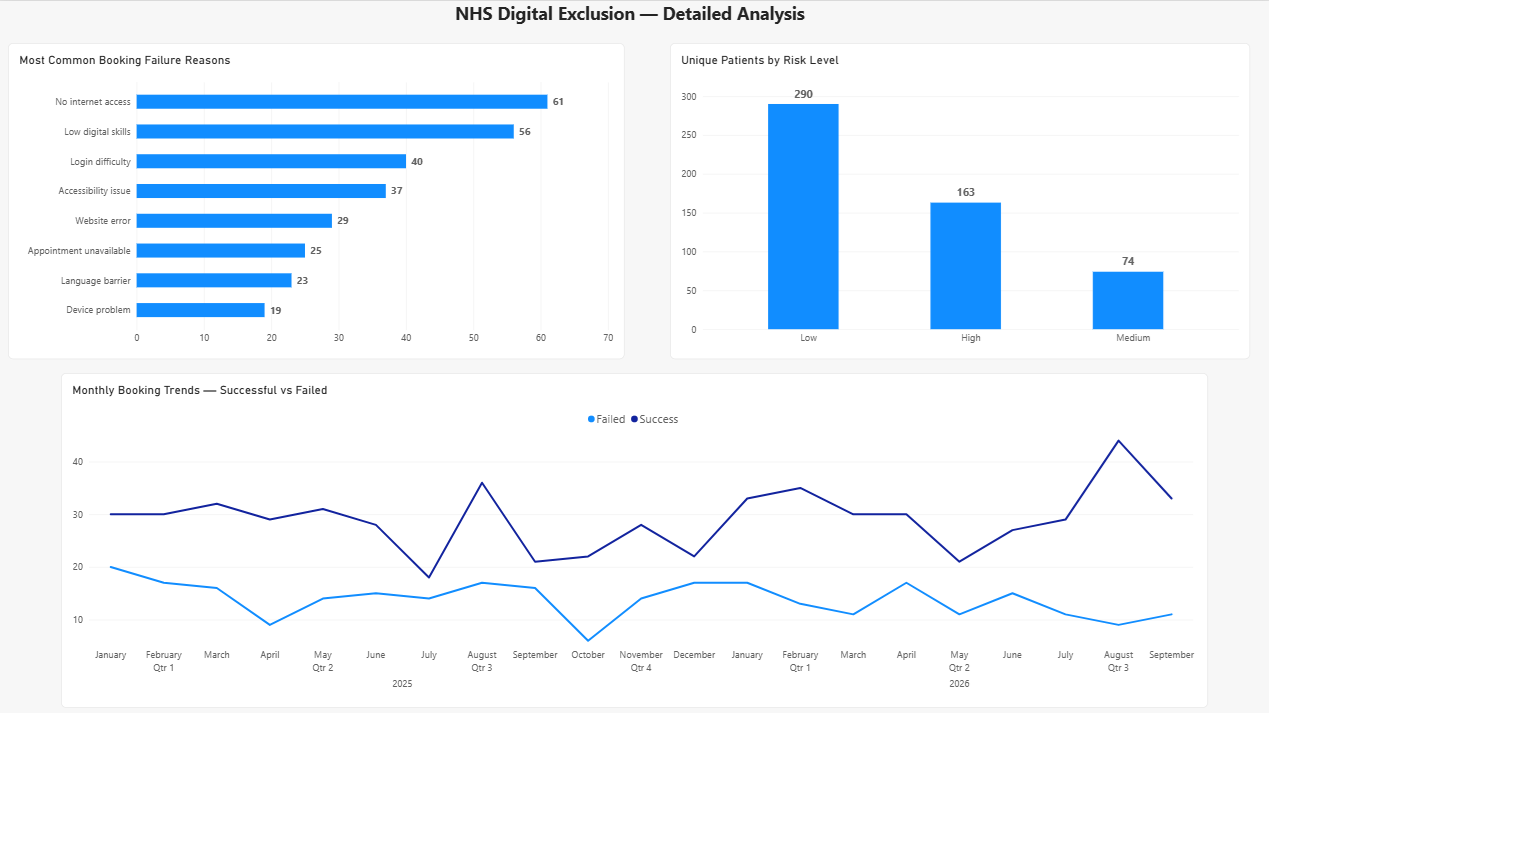

The page's visual inventory and layout, read from the dashboard file:
{"tool":"powerbi","page":{"name":"Detailed Analysis","canvas":[1920,1080],"ordinal":1},"visuals":[{"type":"barChart","title":"Most Common Booking Failure Reasons","fields":{"Category":["nhs_digital_exclusion_analytics booking_attempts.failure_reason"],"Y":["CountNonNull(nhs_digital_exclusion_analytics booking_attempts.booking_id)"]},"box":[15,63.3,930,476.7],"z":0},{"type":"clusteredColumnChart","title":"Unique Patients by Risk Level","fields":{"Category":["nhs_digital_exclusion_analytics booking_attempts.risk_level"],"Y":["Count(nhs_digital_exclusion_analytics booking_attempts.patient_id)"]},"box":[1013.3,63.3,875,476.7],"z":1},{"type":"lineChart","title":"Monthly Booking Trends — Successful vs Failed","fields":{"Category":["nhs_digital_exclusion_analytics booking_attempts.attempt_datetime.Variation.Date Hierarchy.Year","nhs_digital_exclusion_analytics booking_attempts.attempt_datetime.Variation.Date Hierarchy.Quarter","nhs_digital_exclusion_analytics booking_attempts.attempt_datetime.Variation.Date Hierarchy.Month","nhs_digital_exclusion_analytics booking_attempts.attempt_datetime.Variation.Date Hierarchy.Day"],"Series":["nhs_digital_exclusion_analytics booking_attempts.booking_outcome"],"Y":["CountNonNull(nhs_digital_exclusion_analytics booking_attempts.booking_id)"]},"box":[95,561.7,1730,505],"z":2},{"type":"textbox","box":[353.3,0,1200,63.3],"z":3}]}

Visuals, with their boxes in screenshot pixels (x1, y1, x2, y2), scaled from the page's 1920x1080 canvas onto the 1536x864 screenshot:
"Most Common Booking Failure Reasons" barChart: 12,51,756,432
"Unique Patients by Risk Level" clusteredColumnChart: 811,51,1511,432
"Monthly Booking Trends — Successful vs Failed" lineChart: 76,449,1460,853
textbox: 283,0,1243,51
